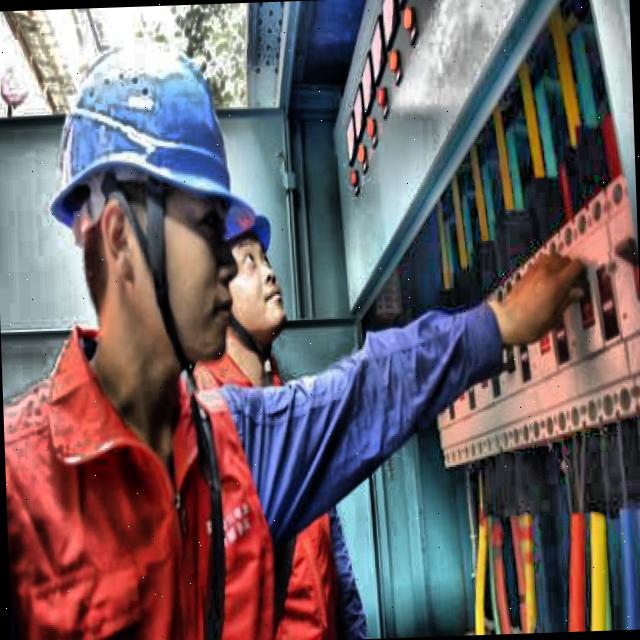helmet: (35, 16, 264, 392), (220, 188, 288, 348)
